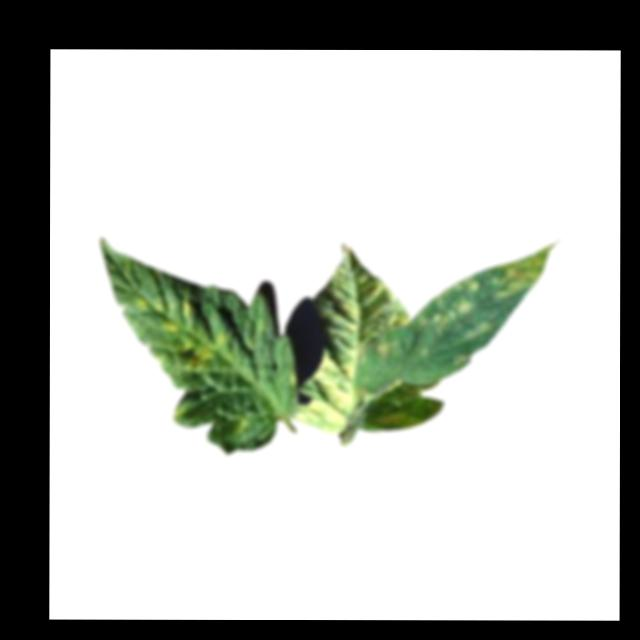Leaf_Mold: (296, 346, 356, 435), (491, 247, 549, 298), (134, 295, 194, 332), (181, 332, 223, 373), (415, 303, 473, 332), (450, 278, 482, 296), (370, 340, 398, 360)
